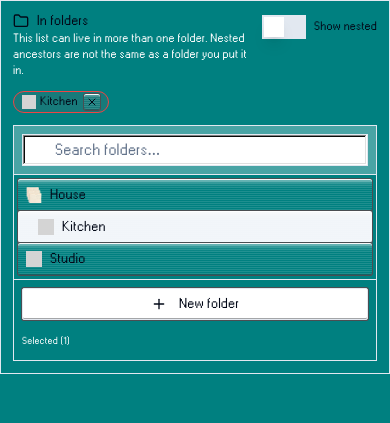
it: InFoldersEditor › creates a folder and files the list in it
The width and height of the screenshot is (390, 423).
Click the button "New folder". click: (195, 304)
box: [22,288,368,320]
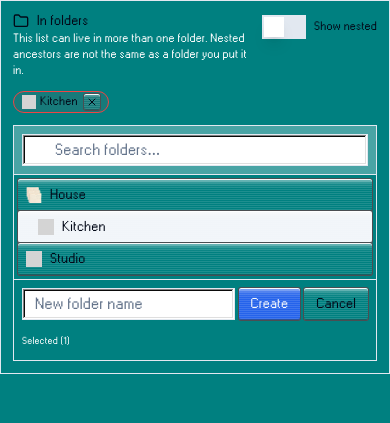
Type "Pantry" into the field labelled "New folder name". click: (128, 304)
box: [22,288,234,320]
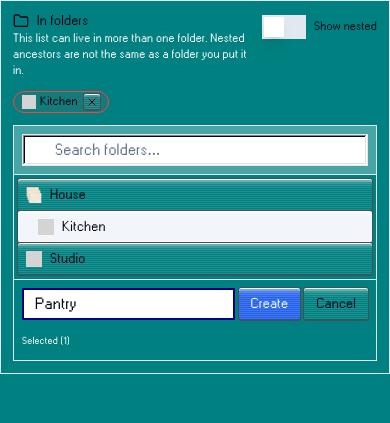
Click the button "Create". click: (269, 304)
box: [238,288,300,320]
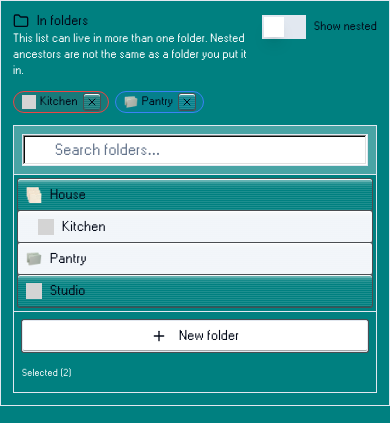
Check: the button named "Remove from Pantry" is shown, box [179,94,195,110]
